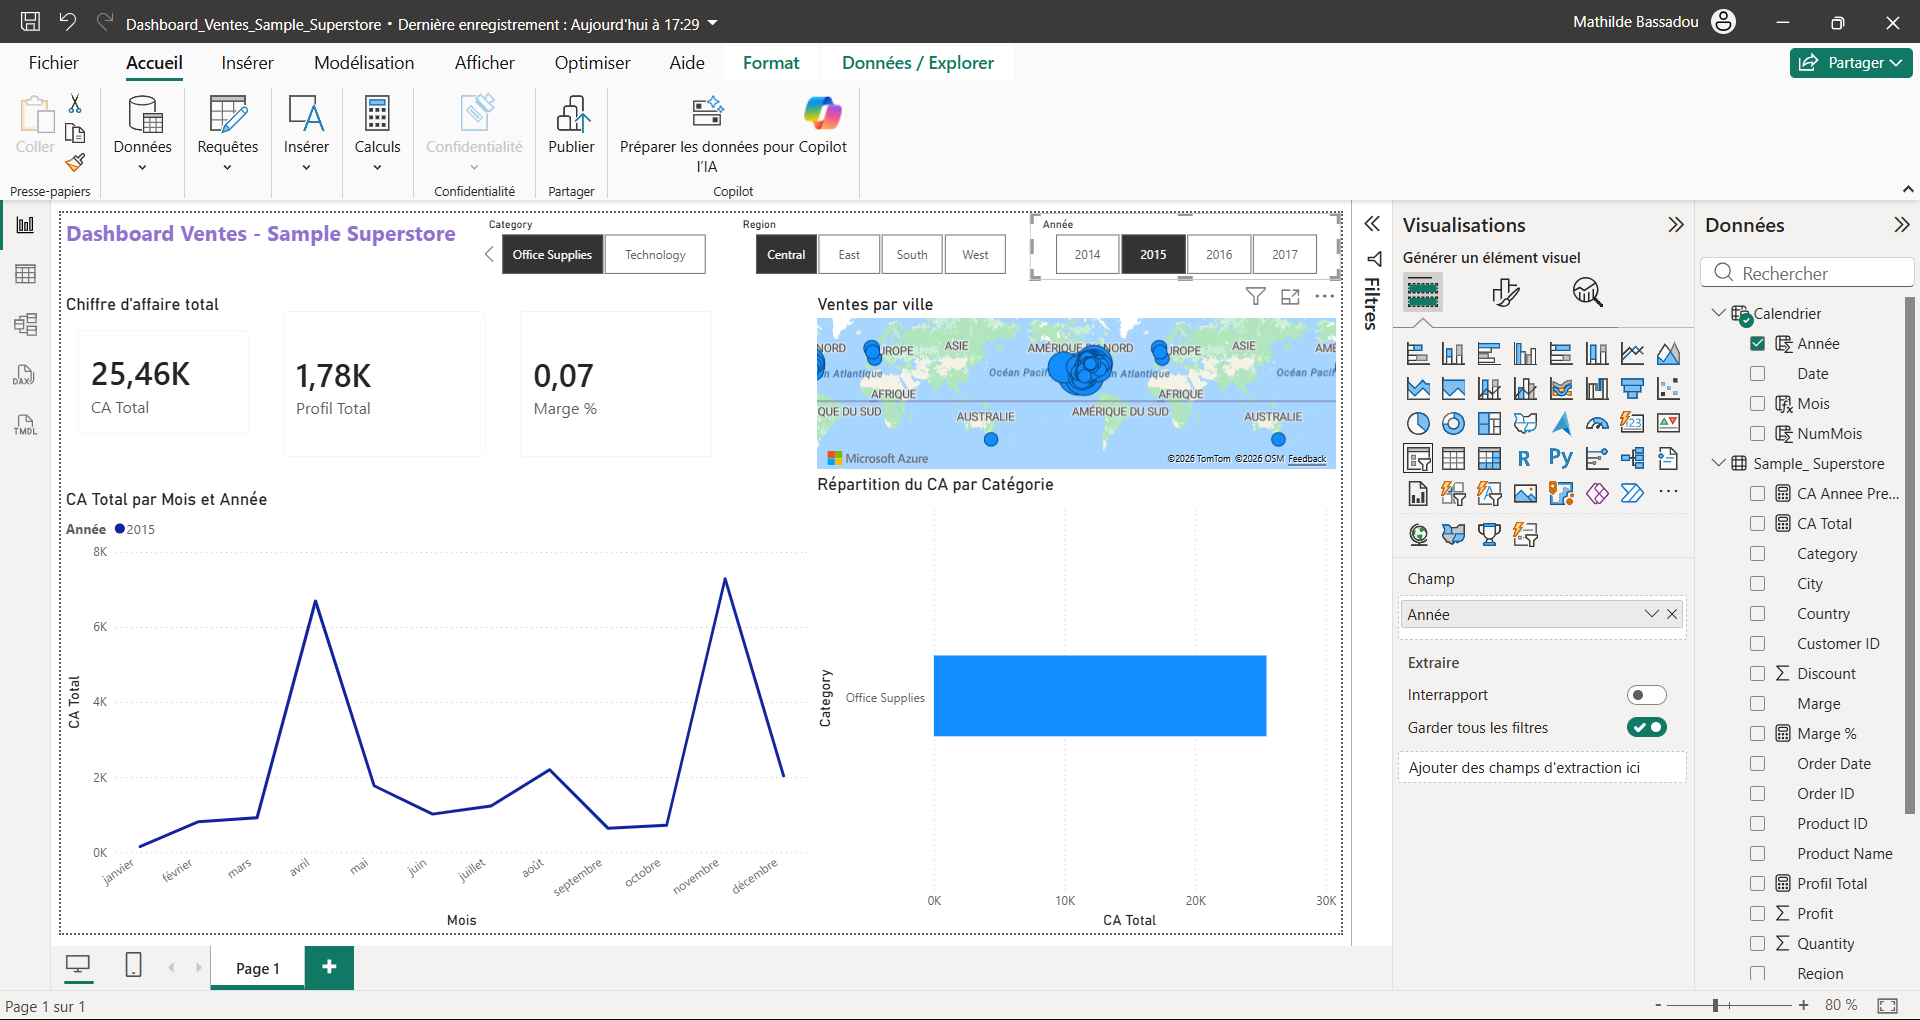

This screenshot's page, from the dashboard's own definition file:
{"tool":"powerbi","page":{"name":"Page 1","canvas":[1280,720],"ordinal":0},"visuals":[{"type":"cardVisual","title":"Chiffre d''affaire total","fields":{"Data":["Sample_ Superstore.CA Total"]},"box":[0,81.2,205,157.5],"z":1},{"type":"lineChart","fields":{"Y":["Sample_ Superstore.CA Total"],"Series":["Calendrier.Année"],"Category":["Calendrier.Mois"]},"box":[0,276.2,751.2,443.8],"z":2},{"type":"clusteredBarChart","title":"Répartition du CA par Catégorie","fields":{"Y":["Sample_ Superstore.CA Total"],"Category":["Sample_ Superstore.Category"]},"box":[751.2,261.2,528.8,458.8],"z":3},{"type":"azureMap","title":"Ventes par ville","fields":{"Size":["Sample_ Superstore.CA Total"],"Category":["Sample_ Superstore.City"]},"box":[751.2,81.2,528.8,180],"z":4},{"type":"cardVisual","fields":{"Data":["Sample_ Superstore.Profil Total"]},"box":[205,81.2,237.5,180],"z":5},{"type":"cardVisual","fields":{"Data":["Sample_ Superstore.Marge %"]},"box":[442.5,81.2,226.2,180],"z":6},{"type":"textbox","box":[0,0,415,53.8],"z":7},{"type":"slicer","fields":{"Values":["Calendrier.Année"]},"box":[968.8,0,311.2,67.5],"z":8},{"type":"slicer","fields":{"Values":["Sample_ Superstore.Region"]},"box":[668.8,0,300,67.5],"z":9},{"type":"slicer","fields":{"Values":["Sample_ Superstore.Category"]},"box":[415,0,253.8,67.5],"z":10}]}

Visuals, with their boxes on the page's 1280x720 design canvas (x1, y1, x2, y2). These are canvas units, not pixel positions in the 1920x1020 screenshot, which may show the page scaled, cropped or inside an application window:
"Chiffre d''affaire total" cardVisual: x1=0, y1=81, x2=205, y2=239
lineChart - Sample_ Superstore.CA Total x Calendrier.Année: x1=0, y1=276, x2=751, y2=720
"Répartition du CA par Catégorie" clusteredBarChart: x1=751, y1=261, x2=1280, y2=720
"Ventes par ville" azureMap: x1=751, y1=81, x2=1280, y2=261
cardVisual - Sample_ Superstore.Profil Total: x1=205, y1=81, x2=442, y2=261
cardVisual - Sample_ Superstore.Marge %: x1=442, y1=81, x2=669, y2=261
textbox: x1=0, y1=0, x2=415, y2=54
slicer - Calendrier.Année: x1=969, y1=0, x2=1280, y2=68
slicer - Sample_ Superstore.Region: x1=669, y1=0, x2=969, y2=68
slicer - Sample_ Superstore.Category: x1=415, y1=0, x2=669, y2=68
